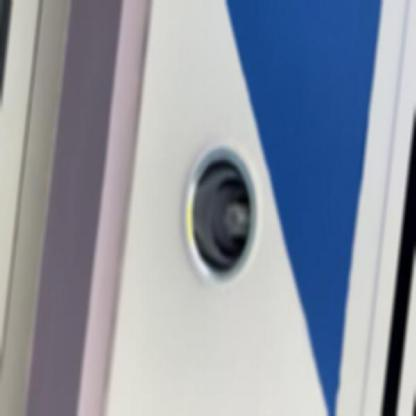light_off: (171, 98, 274, 305)
